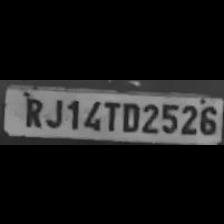1: (62, 96, 80, 128)
2: (177, 100, 197, 136), (140, 99, 158, 133)
4: (80, 96, 102, 132)
5: (158, 99, 178, 133)
6: (196, 102, 218, 136)
D: (118, 100, 140, 132)
J: (43, 94, 63, 128)
R: (20, 94, 44, 128)
T: (102, 97, 120, 132)
